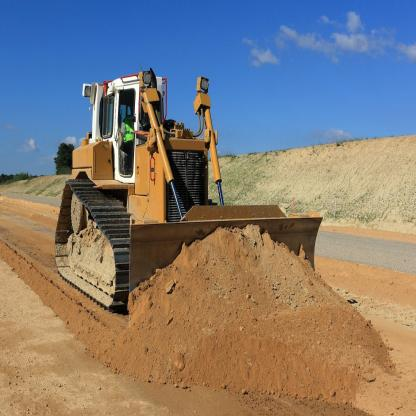bull_dozer/loader/grader: (51, 43, 336, 359)
